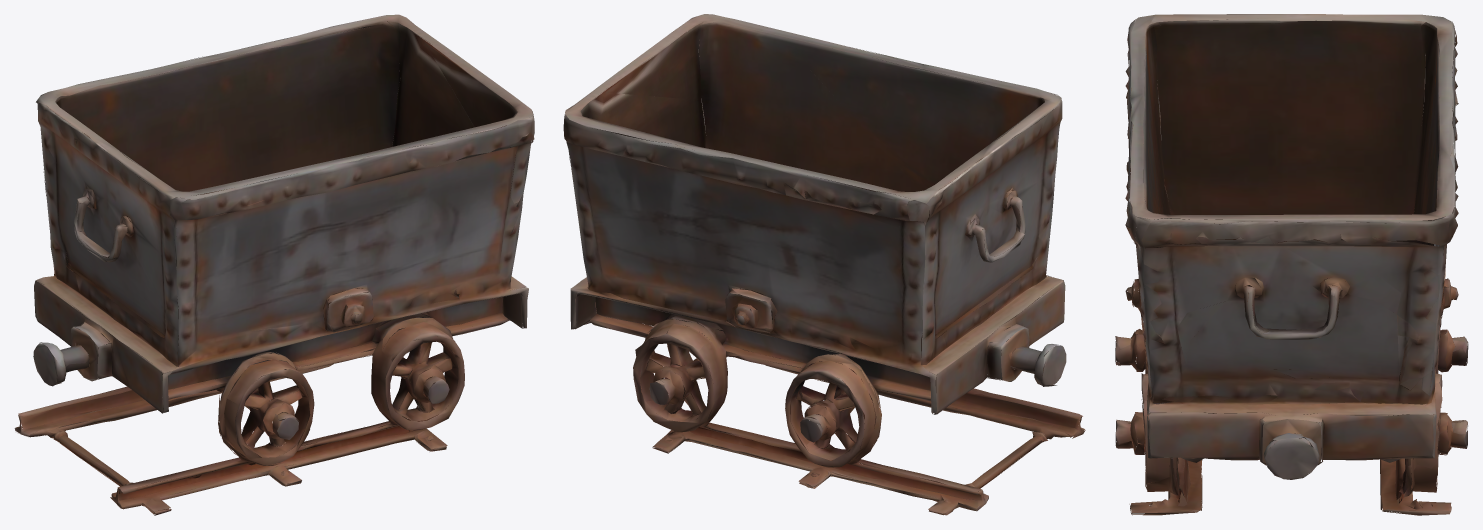
Rendered from vagoneta_vacia.glb.
The picture shows the model from 3 angles, left to right: view 1: azimuth 30°, elevation 25°; view 2: azimuth 150°, elevation 25°; view 3: azimuth 270°, elevation 25°; orthographic projection. The views are drawn at different scales.
Visible parts, largest first — view 1: geometry_0; view 2: geometry_0; view 3: geometry_0.
Part boxes in pixels (left/top/right/bottom): geometry_0: left=14, top=14, right=534, bottom=515; geometry_0: left=563, top=14, right=1085, bottom=515; geometry_0: left=1115, top=14, right=1468, bottom=515.
Bounding box in the file's own units: 1.5 × 1 × 0.9012.
Materials: 1 (1 with a texture image).
